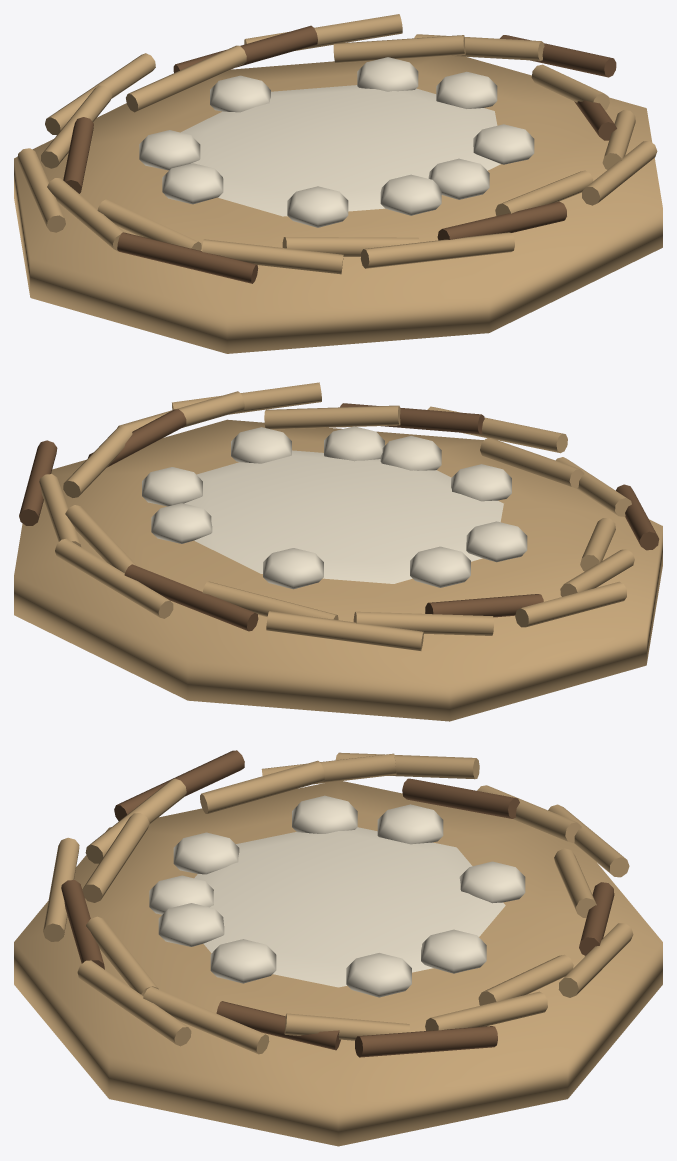
Rendered from nest.glb.
3 renders of one model, top to bottom at view 1: azimuth 30°, elevation 25°; view 2: azimuth 150°, elevation 25°; view 3: azimuth 270°, elevation 25°, orthographic. The views are drawn at different scales.
Parts seen in each view (by area): view 1: Bowl, Lining, Strand0; view 2: Bowl, Lining, Strand0; view 3: Bowl, Lining, Strand0.
Part boxes in pixels (x1=…): Bowl: x1=14, y1=14, x2=662, y2=353; Lining: x1=139, y1=57, x2=534, y2=227; Strand0: x1=63, y1=25, x2=616, y2=283; Bowl: x1=14, y1=382, x2=662, y2=721; Lining: x1=142, y1=426, x2=527, y2=589; Strand0: x1=19, y1=403, x2=659, y2=631; Bowl: x1=14, y1=752, x2=662, y2=1146; Lining: x1=149, y1=795, x2=525, y2=997; Strand0: x1=61, y1=750, x2=614, y2=1057.
Bounding box in the file's own units: 1.62 × 0.35 × 1.37.
